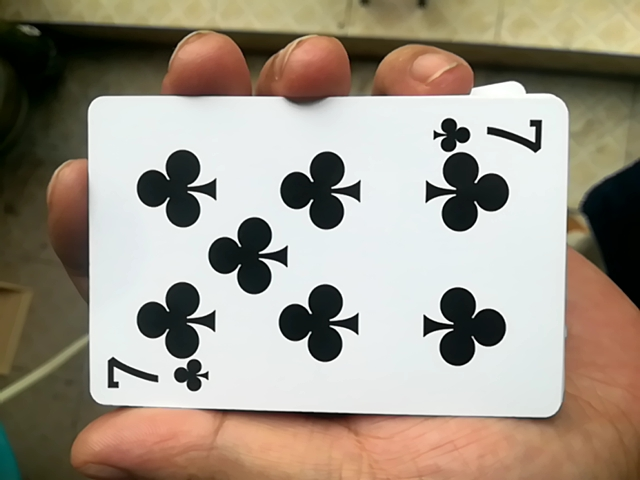mh 7: (68, 93, 563, 427)
